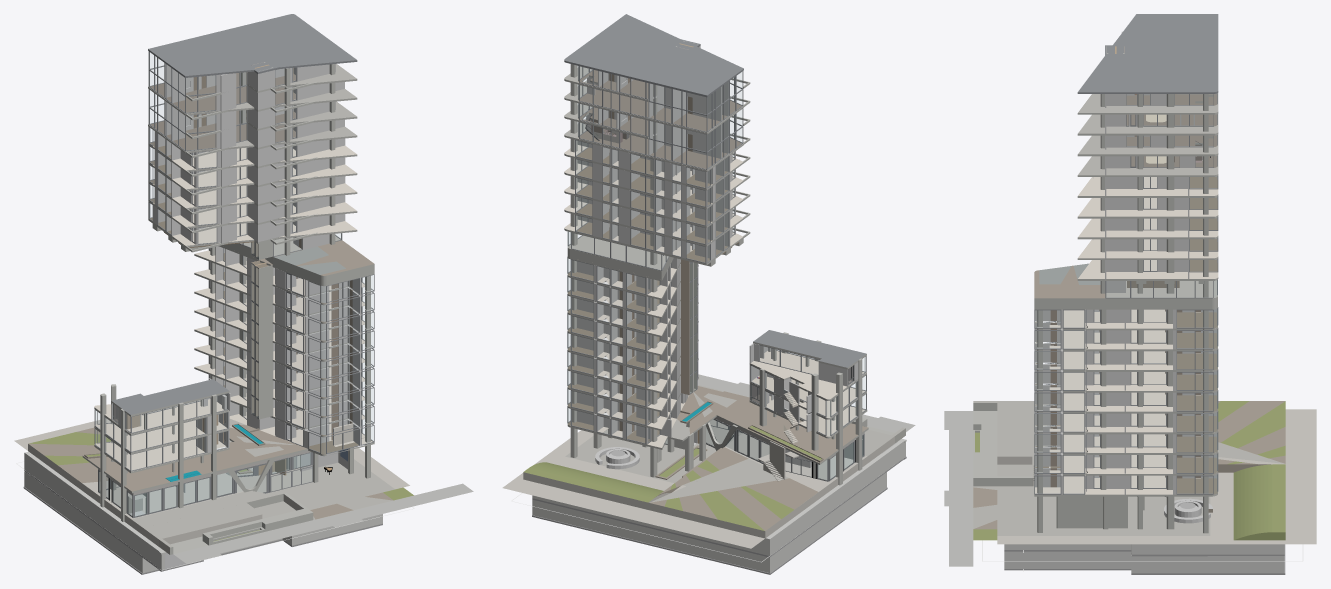
The model's file is vestigium.glb.
3 views of the same model, side by side, from view 1: azimuth 30°, elevation 25°; view 2: azimuth 150°, elevation 25°; view 3: azimuth 270°, elevation 25° (orthographic). The views are drawn at different scales.
Visible parts, largest first — view 1: Jardin, SUELTOS, Techo penthouse, COCHERA SUBSUELOS, Duplex baja A, Duplex baja B, Planta 14, Planta 12, Planta 11, Planta 13, Planta 15, Piso parque (+18 smaller); view 2: Jardin, COCHERA SUBSUELOS, SUELTOS, Techo penthouse, Duplex baja A, Duplex baja B, Piso parque, Planta 12, Planta 11, Planta 14, Planta 13, Planta 15 (+20 smaller); view 3: SUELTOS, Jardin, Techo penthouse, COCHERA SUBSUELOS, Piso terraza adoquin, Planta 4, Planta 8, Planta 5, Planta 6, Planta 3, Planta 2, Planta 7 (+12 smaller).
Boxes of the visible parts, bbox=[...] form: Jardin: bbox=[28, 427, 473, 563]; SUELTOS: bbox=[14, 404, 409, 546]; Techo penthouse: bbox=[148, 14, 357, 77]; COCHERA SUBSUELOS: bbox=[16, 451, 414, 574]; Duplex baja A: bbox=[148, 63, 357, 120]; Duplex baja B: bbox=[148, 100, 357, 157]; Planta 14: bbox=[148, 145, 357, 195]; Planta 12: bbox=[148, 183, 357, 233]; Planta 11: bbox=[148, 201, 357, 252]; Planta 13: bbox=[148, 164, 357, 214]; Planta 15: bbox=[148, 126, 357, 176]; Piso parque: bbox=[83, 419, 307, 491]; Jardin: bbox=[523, 374, 915, 538]; COCHERA SUBSUELOS: bbox=[511, 438, 906, 574]; SUELTOS: bbox=[502, 130, 894, 548]; Techo penthouse: bbox=[564, 14, 743, 96]; Duplex baja A: bbox=[564, 77, 750, 134]; Duplex baja B: bbox=[564, 114, 750, 171]; Piso parque: bbox=[671, 386, 868, 463]; Planta 12: bbox=[564, 195, 750, 246]; Planta 11: bbox=[564, 213, 750, 265]; Planta 14: bbox=[564, 157, 750, 209]; Planta 13: bbox=[564, 176, 750, 227]; Planta 15: bbox=[564, 139, 750, 190]; SUELTOS: bbox=[997, 145, 1316, 544]; Jardin: bbox=[944, 401, 1285, 566]; Techo penthouse: bbox=[1077, 14, 1218, 93]; COCHERA SUBSUELOS: bbox=[982, 540, 1303, 574]; Piso terraza adoquin: bbox=[1034, 263, 1217, 309]; Planta 4: bbox=[1034, 383, 1218, 434]; Planta 8: bbox=[1034, 321, 1218, 351]; Planta 5: bbox=[1034, 362, 1218, 413]; Planta 6: bbox=[1034, 342, 1218, 392]; Planta 3: bbox=[1034, 404, 1218, 454]; Planta 2: bbox=[1034, 425, 1218, 475]; Planta 7: bbox=[1034, 321, 1218, 371].
Size of what is drawn, in the model's own units: 54.48 by 76.71 by 53.67.
